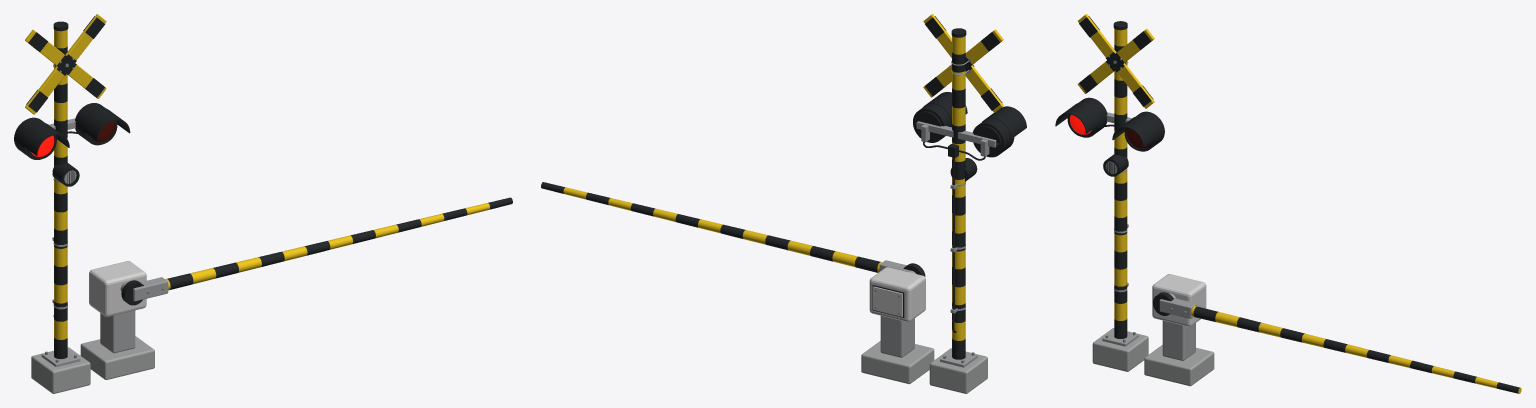
File: railway_crossing_lowered.glb
3 renders of one model, left to right at view 1: azimuth 30°, elevation 25°; view 2: azimuth 150°, elevation 25°; view 3: azimuth 330°, elevation 25°, orthographic. The views are drawn at different scales.
Visible parts, largest first — view 1: Continuous mast with alternating painted bands, Four metre tapered lowered striped boom, Drive enclosure, Barrier concrete foundation, Mast concrete foundation, Drive pedestal, Crossbuck continuous yellow blade, Deep upper sun hood, Deep upper sun hood.001, Crossbuck continuous yellow blade.001, Boom socket clamp; view 2: Continuous mast with alternating painted bands, Four metre tapered lowered striped boom, Barrier concrete foundation, Drive enclosure, Mast concrete foundation, Drive pedestal, Crossbuck continuous yellow blade, Drive rear inspection lid, Deep upper sun hood, Crossbuck continuous yellow blade.001, Lamp mounting crossarm, Round black warning housing (+3 smaller); view 3: Continuous mast with alternating painted bands, Four metre tapered lowered striped boom, Barrier concrete foundation, Drive enclosure, Mast concrete foundation, Drive pedestal, Crossbuck continuous yellow blade.001, Deep upper sun hood, Deep upper sun hood.001, Crossbuck continuous yellow blade, Boom socket clamp.
Part boxes in pixels (bbox=[...]): Continuous mast with alternating painted bands: bbox=[54, 29, 67, 358]; Four metre tapered lowered striped boom: bbox=[165, 197, 512, 290]; Drive enclosure: bbox=[89, 261, 146, 316]; Barrier concrete foundation: bbox=[80, 336, 154, 379]; Mast concrete foundation: bbox=[31, 347, 90, 393]; Drive pedestal: bbox=[100, 310, 135, 353]; Crossbuck continuous yellow blade: bbox=[25, 14, 106, 114]; Deep upper sun hood: bbox=[20, 122, 69, 155]; Deep upper sun hood.001: bbox=[81, 107, 130, 140]; Crossbuck continuous yellow blade.001: bbox=[25, 29, 106, 98]; Boom socket clamp: bbox=[133, 277, 168, 301]; Continuous mast with alternating painted bands: bbox=[952, 36, 965, 359]; Four metre tapered lowered striped boom: bbox=[541, 182, 882, 272]; Barrier concrete foundation: bbox=[861, 341, 934, 384]; Drive enclosure: bbox=[869, 267, 925, 322]; Mast concrete foundation: bbox=[929, 348, 987, 393]; Drive pedestal: bbox=[880, 316, 914, 357]; Crossbuck continuous yellow blade: bbox=[923, 14, 1003, 112]; Drive rear inspection lid: bbox=[873, 286, 902, 316]; Deep upper sun hood: bbox=[982, 106, 1026, 139]; Crossbuck continuous yellow blade.001: bbox=[923, 29, 1003, 97]; Lamp mounting crossarm: bbox=[916, 121, 996, 147]; Round black warning housing: bbox=[972, 118, 1014, 157]; Continuous mast with alternating painted bands: bbox=[1114, 28, 1127, 338]; Four metre tapered lowered striped boom: bbox=[1191, 306, 1521, 393]; Barrier concrete foundation: bbox=[1144, 345, 1214, 386]; Drive enclosure: bbox=[1152, 274, 1206, 326]; Mast concrete foundation: bbox=[1092, 328, 1148, 371]; Drive pedestal: bbox=[1162, 320, 1195, 360]; Crossbuck continuous yellow blade.001: bbox=[1078, 14, 1154, 108]; Deep upper sun hood: bbox=[1055, 102, 1101, 133]; Deep upper sun hood.001: bbox=[1112, 116, 1158, 147]; Crossbuck continuous yellow blade: bbox=[1077, 29, 1154, 93]; Boom socket clamp: bbox=[1159, 298, 1196, 318].
Bounding box in the file's own units: 5.28 × 3.79 × 0.715.
